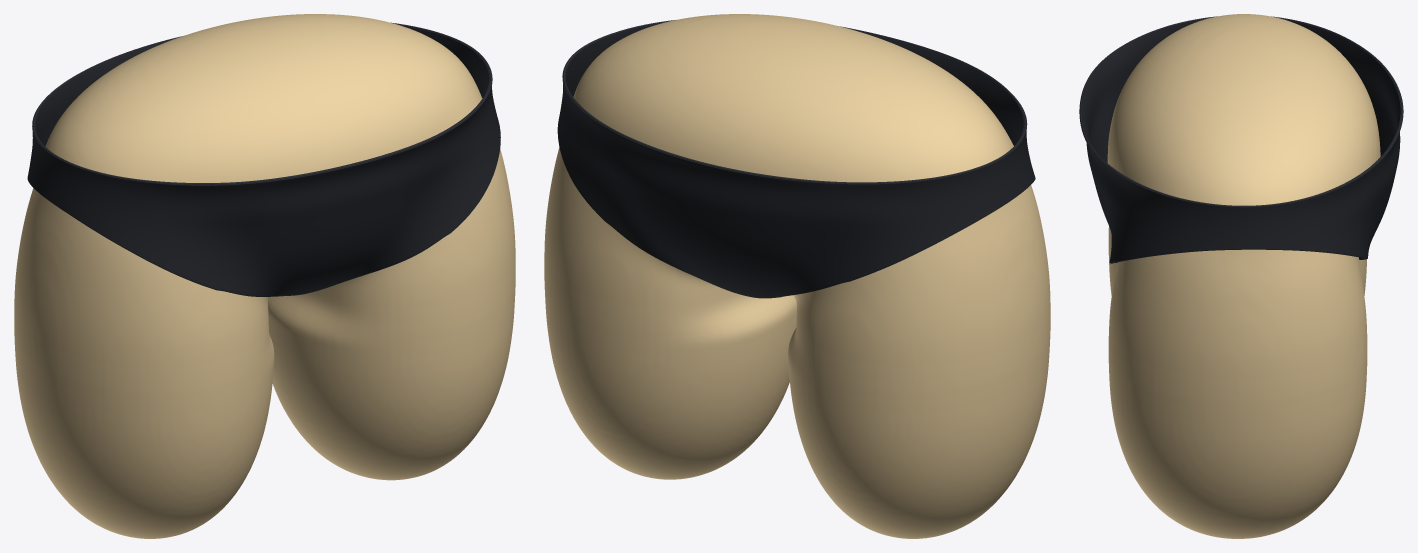
Rendered from Feminine-bikini.glb.
3 views of the same model, side by side, from view 1: azimuth 30°, elevation 25°; view 2: azimuth 150°, elevation 25°; view 3: azimuth 270°, elevation 25° (orthographic). The views are drawn at different scales.
Parts seen in each view (by area): view 1: Skin / bikini lower body, Bottom / curved bikini190, Bottom / bikini seated edge190 2 export; view 2: Skin / bikini lower body, Bottom / curved bikini190, Bottom / bikini seated edge190 2 export; view 3: Skin / bikini lower body, Bottom / curved bikini190, Bottom / bikini seated edge190 2 export.
Part boxes in pixels (x1,y1,x2,y2): Skin / bikini lower body: (14, 14, 515, 538); Bottom / curved bikini190: (27, 24, 500, 296); Bottom / bikini seated edge190 2 export: (33, 22, 491, 184); Skin / bikini lower body: (544, 14, 1050, 538); Bottom / curved bikini190: (557, 22, 1035, 298); Bottom / bikini seated edge190 2 export: (563, 20, 1026, 183); Skin / bikini lower body: (1107, 14, 1380, 538); Bottom / curved bikini190: (1079, 18, 1403, 262); Bottom / bikini seated edge190 2 export: (1080, 16, 1402, 206).
Size of the model in its own units: 0.6361 by 0.5993 by 0.4188.
